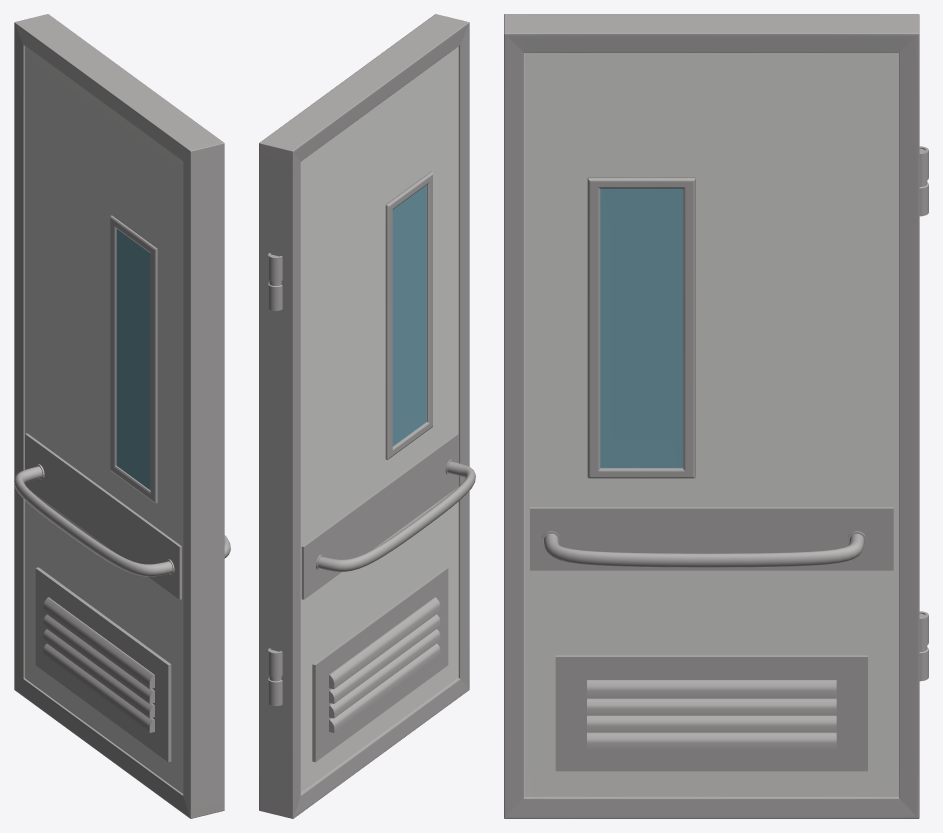
Rendered from PuertaComun5.fbx.
3 views of the same model, side by side, from view 1: azimuth 30°, elevation 25°; view 2: azimuth 150°, elevation 25°; view 3: azimuth 270°, elevation 25° (orthographic). The views are drawn at different scales.
Visible parts, largest first — view 1: Puerta, Respiradero2, Soporte2, Apertura2; view 2: Puerta, Respiradero2, Soporte2, Apertura2, Herrajes; view 3: Puerta, Respiradero2, Soporte2, Apertura2, Herrajes.
Boxes of the visible parts, bbox=[...] form: Puerta: bbox=[14, 14, 224, 818]; Respiradero2: bbox=[35, 567, 171, 762]; Soporte2: bbox=[25, 433, 181, 599]; Apertura2: bbox=[14, 464, 230, 576]; Puerta: bbox=[259, 14, 469, 818]; Respiradero2: bbox=[312, 567, 448, 762]; Soporte2: bbox=[301, 433, 458, 599]; Apertura2: bbox=[316, 459, 475, 571]; Herrajes: bbox=[268, 253, 282, 705]; Puerta: bbox=[504, 14, 919, 818]; Respiradero2: bbox=[555, 655, 867, 771]; Soporte2: bbox=[530, 507, 893, 570]; Apertura2: bbox=[541, 531, 866, 567]; Herrajes: bbox=[919, 146, 928, 681].
Bounding box in the file's own units: 1 × 5.57 × 2.73.
